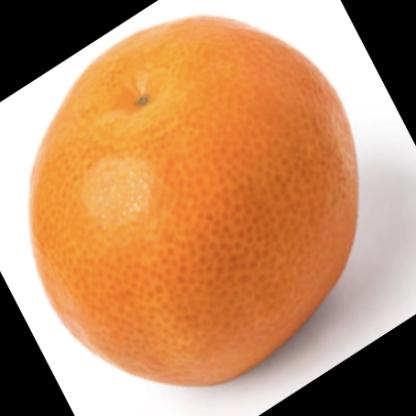fresh: (30, 17, 357, 390)
